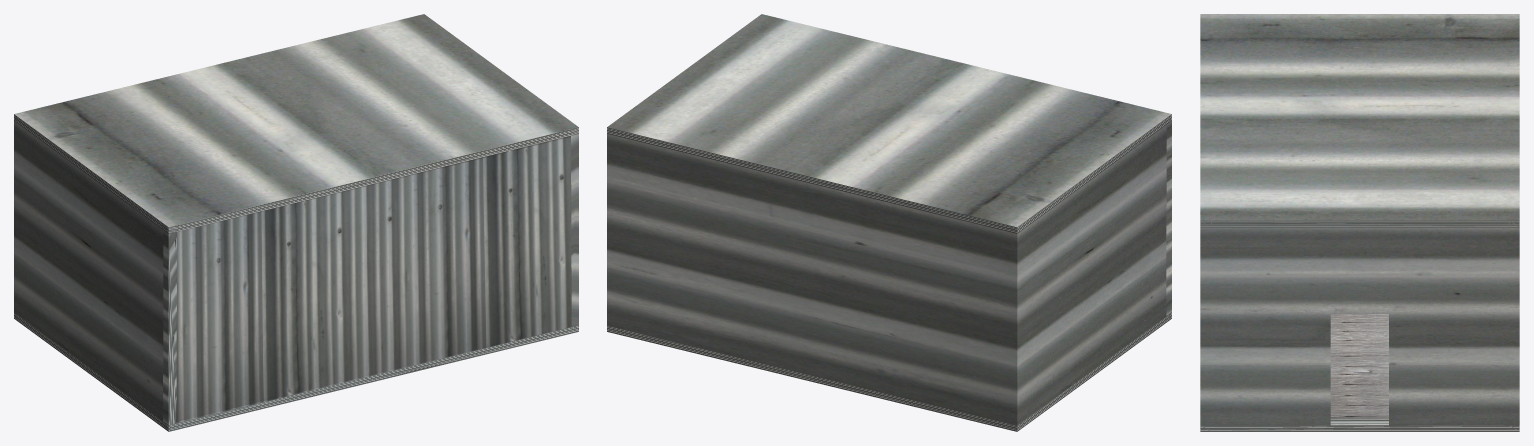
Rendered from bagage.fbx.
3 renders of one model, left to right at view 1: azimuth 30°, elevation 25°; view 2: azimuth 150°, elevation 25°; view 3: azimuth 270°, elevation 25°, orthographic. The views are drawn at different scales.
Parts seen in each view (by area): view 1: Cube; view 2: Cube; view 3: Cube.
Boxes of the visible parts, bbox=[...] form: Cube: bbox=[14, 14, 578, 431]; Cube: bbox=[607, 14, 1171, 431]; Cube: bbox=[1200, 14, 1519, 431].
Size of the model in its own units: 3674 by 1751 by 2400.
